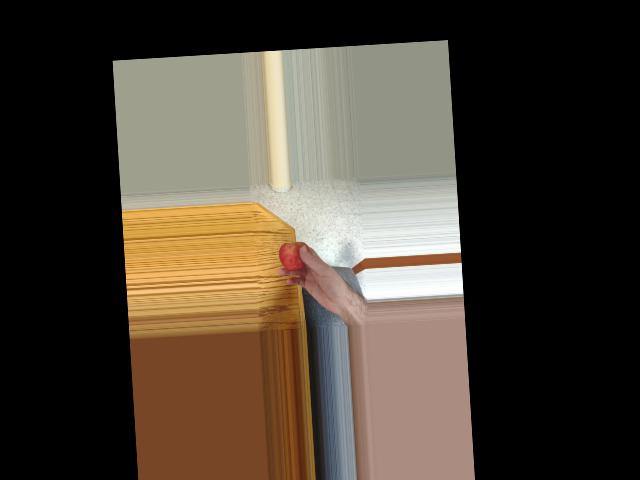apple: (279, 238, 310, 272)
